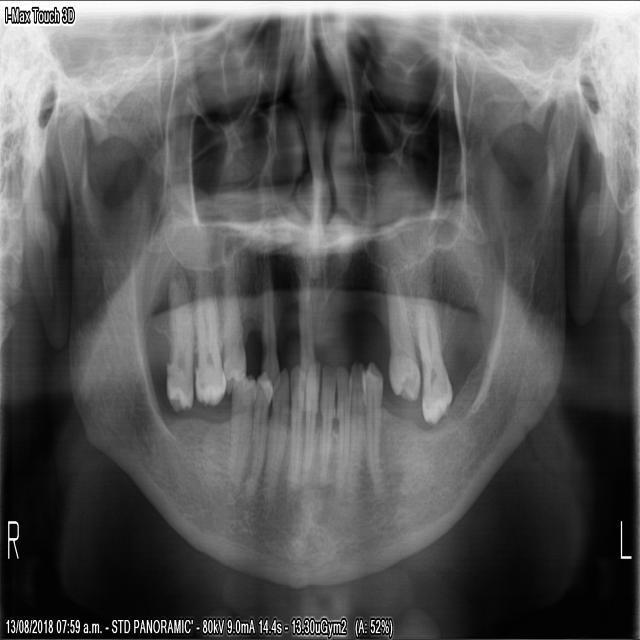LCD: (349, 357, 366, 497)
LID: (316, 365, 336, 492), (336, 365, 349, 499)
LMU: (413, 293, 454, 429), (385, 265, 421, 400)
LPMD: (365, 359, 382, 488)
RCD: (263, 365, 289, 502)
RCU: (259, 260, 280, 382)
RID: (284, 365, 305, 497), (301, 357, 321, 484)
RIU: (297, 249, 315, 364)
RMU: (193, 255, 227, 408), (168, 263, 195, 412)
RPMD: (241, 372, 271, 505), (224, 377, 255, 495)
RPMU: (221, 253, 249, 400)
